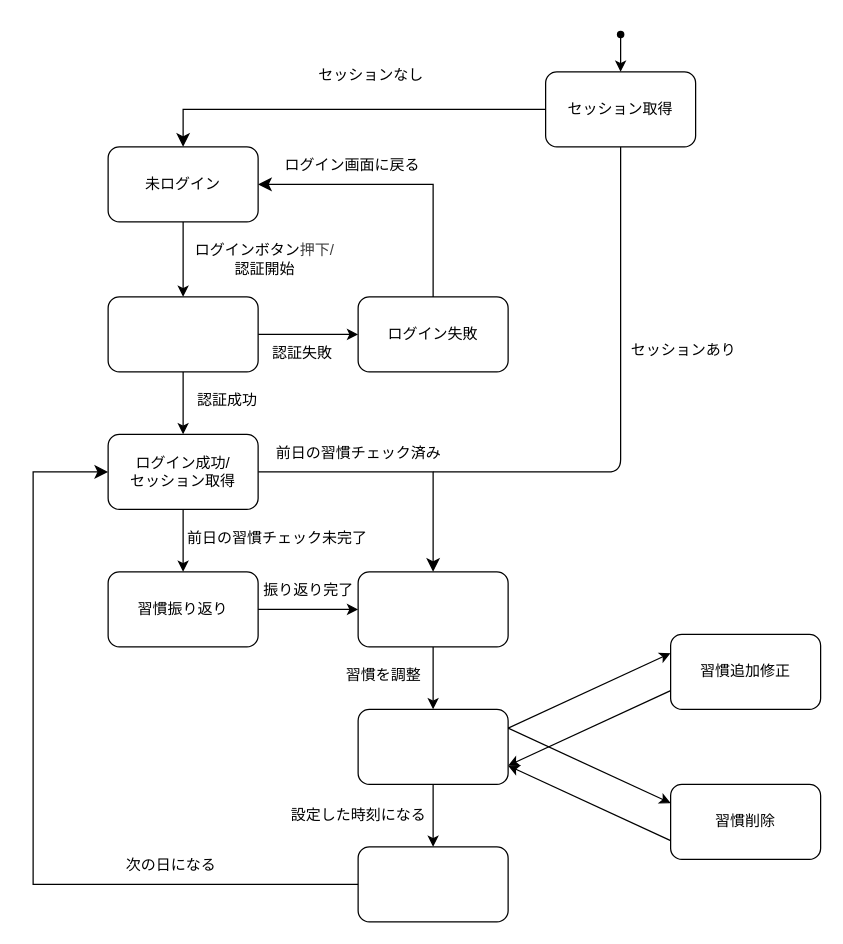
The diagram is 843 pixels wide and 944 high, and some of its shapes have lost their labels. Each missing label, with the centre of its shape:
"コンディション入力" belongs at [432,609].
"日付変更" belongs at [432,884].
"習慣チェック" belongs at [432,746].
"認証中" belongs at [182,334].
